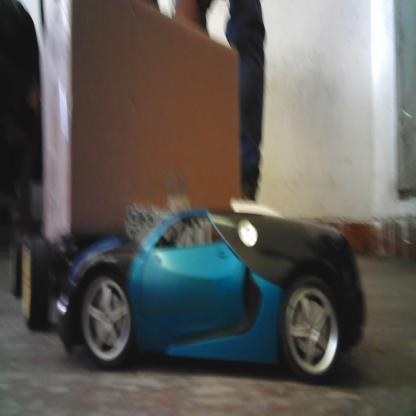LeadTruck: (25, 8, 241, 335)
